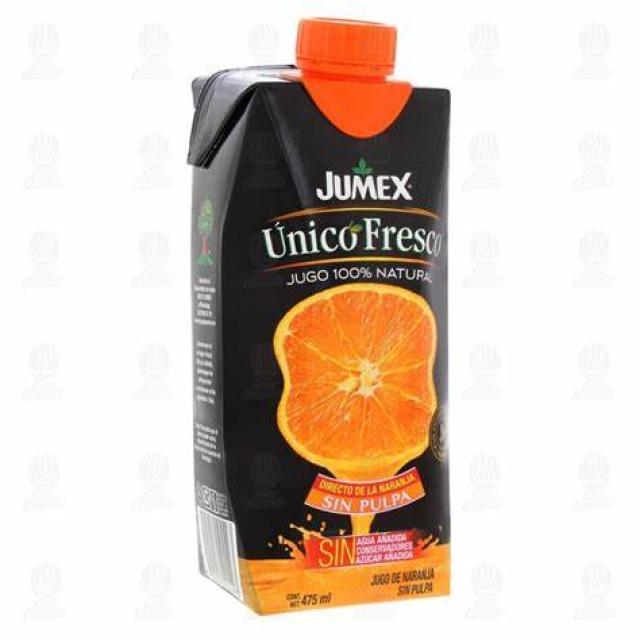Caja: (167, 0, 458, 604)
